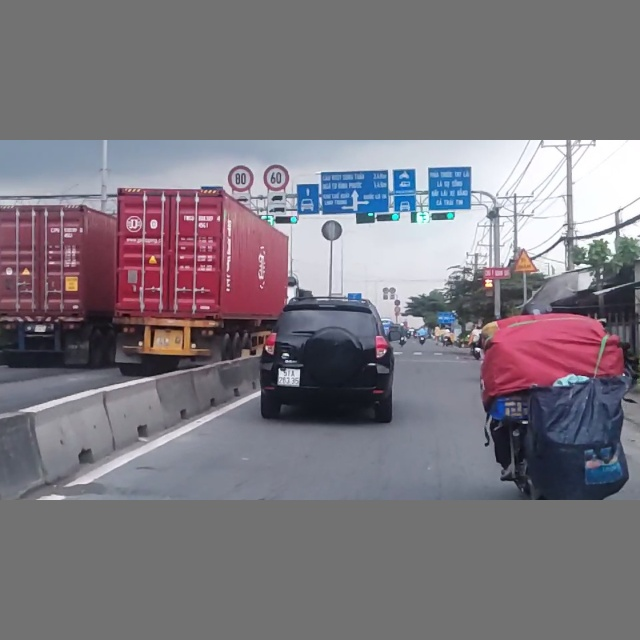P.127*60: (263, 165, 290, 192)
P.127*80: (227, 165, 255, 193)
W.245a: (511, 248, 538, 273)
